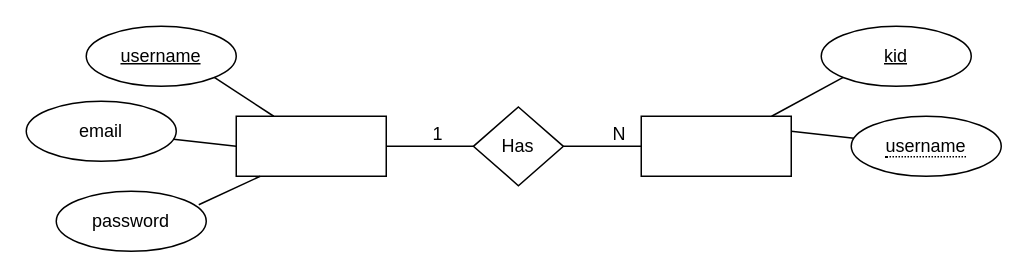
The diagram is 1028 pixels wide and 278 high, and some of its shapes have lost their labels. The shapes that lost their labels are listed below. From the top down, each one's centre as x and y in pixels, then its label:
the point at 310,145: users
the point at 715,145: kit
